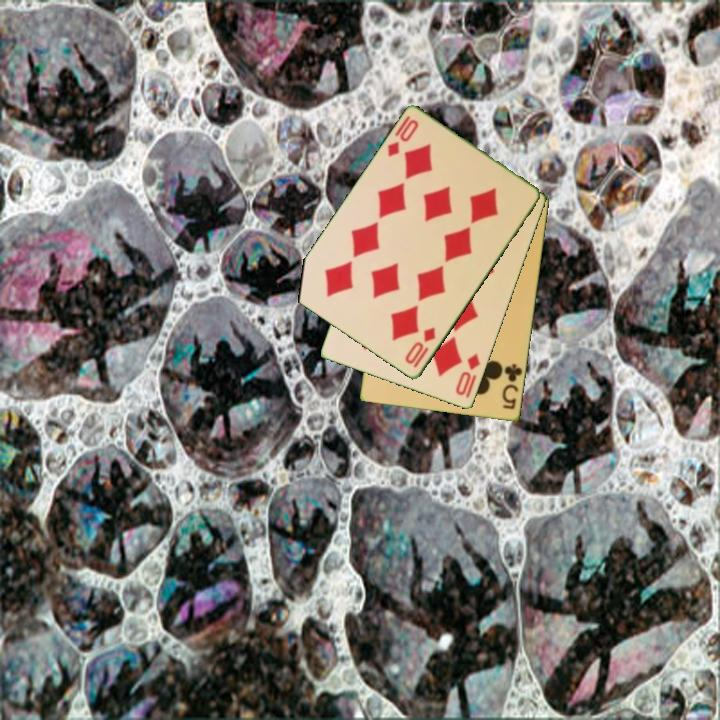10d: (401, 323, 439, 371), (384, 116, 422, 160), (452, 350, 483, 399)
5c: (499, 361, 525, 413)
